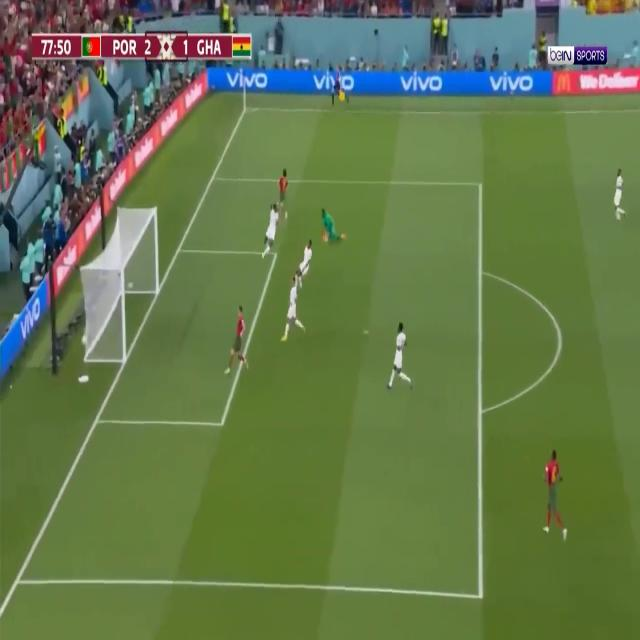ball: (81, 332, 88, 347)
team1: (543, 450, 570, 542), (225, 305, 250, 377), (275, 167, 292, 220)
team2: (281, 278, 307, 346), (387, 321, 412, 389), (261, 205, 279, 260), (296, 244, 315, 292), (614, 169, 626, 221)
